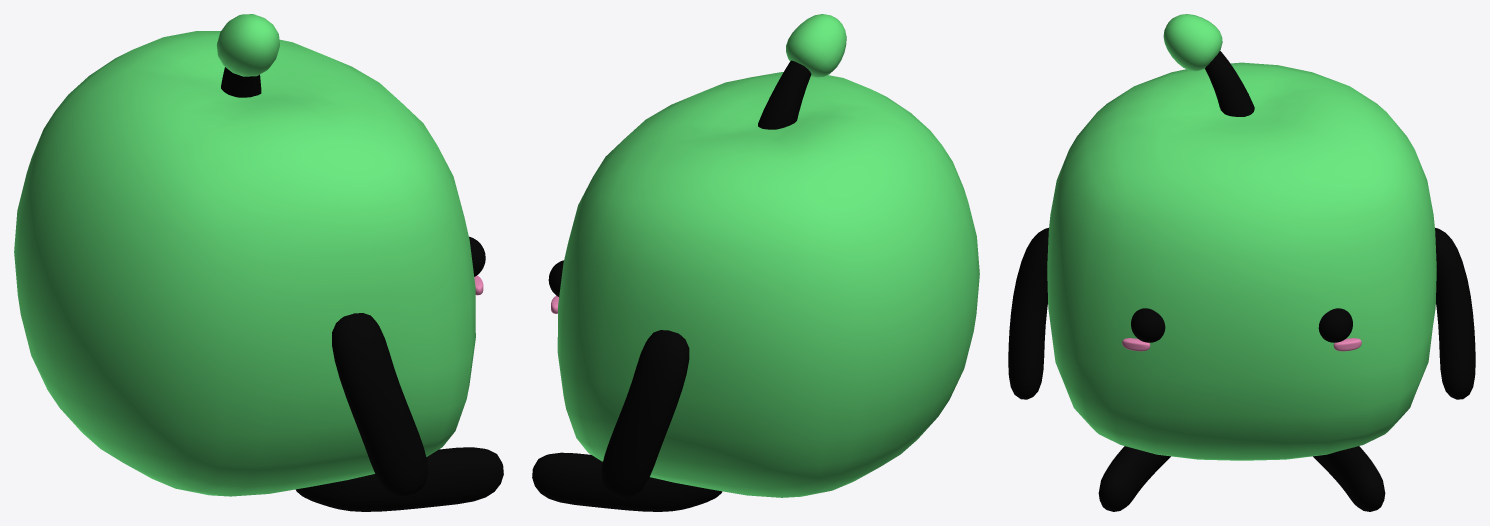
File: JUMINO133.fbx
3 views of the same model, side by side, from view 1: azimuth 30°, elevation 25°; view 2: azimuth 150°, elevation 25°; view 3: azimuth 270°, elevation 25° (orthographic). The views are drawn at different scales.
Parts seen in each view (by area): view 1: Cube.006, Cube.009, Cube.011, Cube.008, Cube.007; view 2: Cube.006, Cube.009, Cube.011, Cube.008, Cube.007; view 3: Cube.006, Cube.009, Cube.011, Cube.008, Sphere.001, Cube.007, Cube.010.
Part boxes in pixels (bbox=[...]): Cube.006: bbox=[14, 31, 475, 496]; Cube.009: bbox=[332, 313, 427, 497]; Cube.011: bbox=[295, 447, 503, 511]; Cube.008: bbox=[216, 14, 279, 76]; Cube.007: bbox=[221, 67, 261, 97]; Cube.006: bbox=[557, 72, 979, 497]; Cube.009: bbox=[601, 330, 689, 498]; Cube.011: bbox=[532, 452, 722, 511]; Cube.008: bbox=[786, 14, 846, 77]; Cube.007: bbox=[758, 60, 811, 129]; Cube.006: bbox=[1047, 62, 1436, 460]; Cube.009: bbox=[1008, 228, 1475, 399]; Cube.011: bbox=[1098, 446, 1385, 511]; Cube.008: bbox=[1163, 14, 1222, 71]; Sphere.001: bbox=[1131, 308, 1352, 342]; Cube.007: bbox=[1205, 51, 1254, 116]; Cube.010: bbox=[1122, 338, 1361, 351].
Size of the model in its own units: 2778 by 3445 by 3464.
